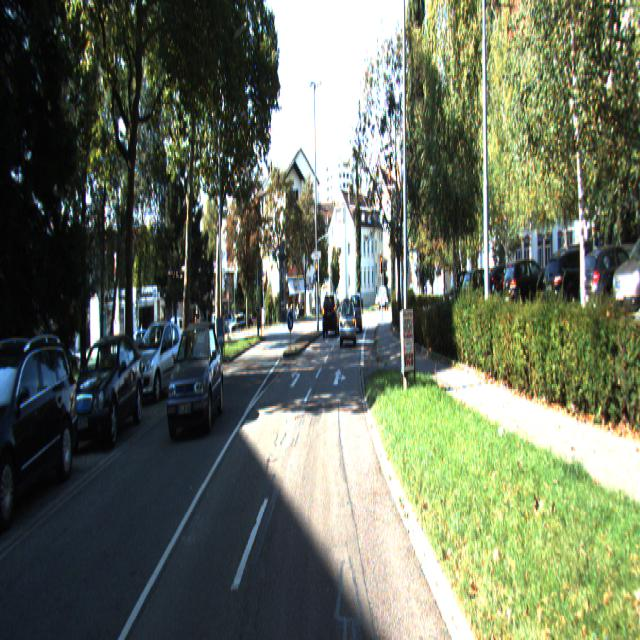Car: (0, 338, 83, 542), (66, 334, 145, 452), (166, 324, 224, 439), (129, 322, 186, 405), (339, 300, 356, 346)
